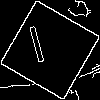I: (25, 25, 51, 73)
